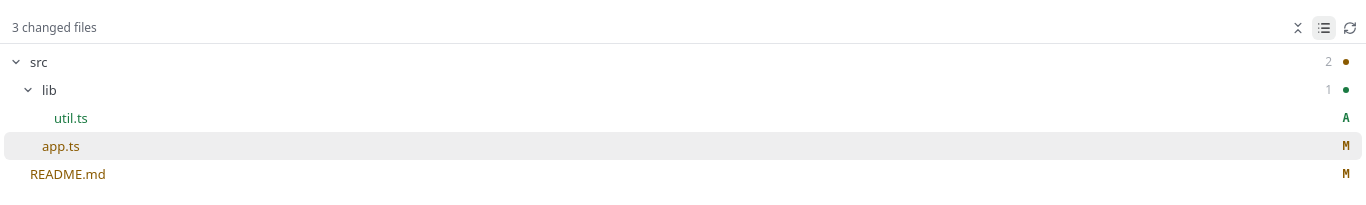
Test: ChangedFiles › collapses and expands every folder
Click the button named "Collapse all folders" at (1298,28), box [1286,16,1310,40]
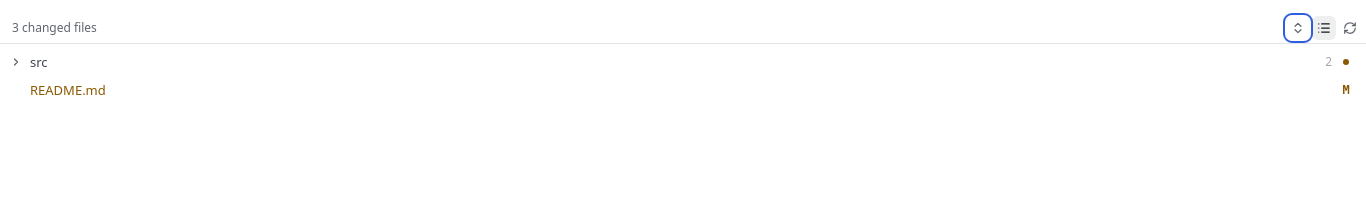
Click the button named "Expand all folders" at (1298,28), box [1286,16,1310,40]
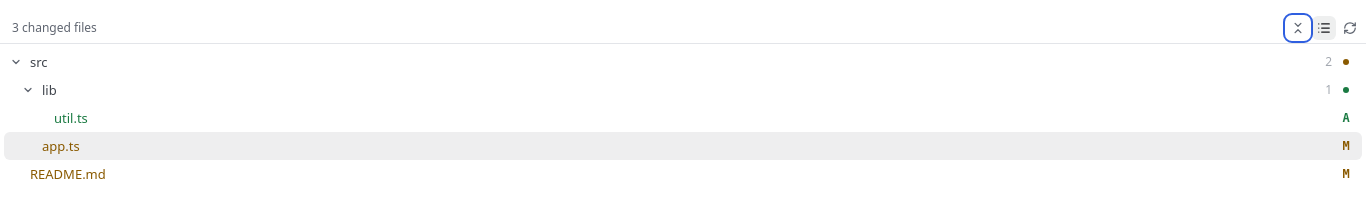
Check: the number of list items is 5, box [4,48,1362,76]; [4,76,1362,104]; [4,104,1362,132]; [4,132,1362,160]; [4,160,1362,188]
